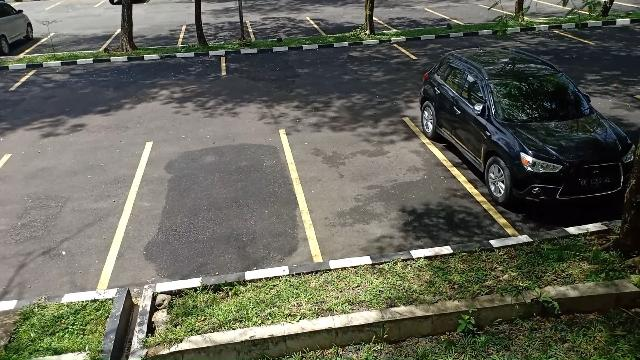empty: (131, 141, 299, 279), (299, 119, 459, 257), (0, 154, 130, 288), (12, 58, 226, 92), (222, 43, 414, 74), (36, 28, 118, 54), (112, 23, 186, 51), (181, 20, 251, 46), (250, 16, 318, 42), (317, 10, 381, 36), (382, 7, 444, 31), (444, 3, 506, 26)
occupied: (428, 85, 608, 225)
